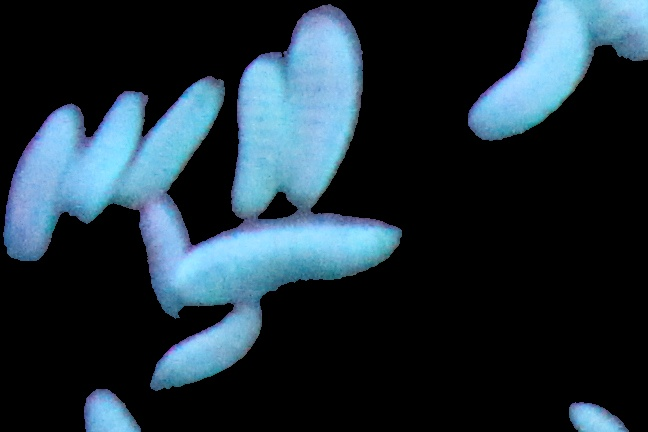larvae: (173, 214, 405, 306), (468, 1, 591, 144), (284, 4, 364, 211), (118, 76, 224, 205), (3, 101, 82, 262), (61, 89, 147, 226), (150, 304, 261, 393), (228, 52, 286, 219), (139, 196, 188, 315)
